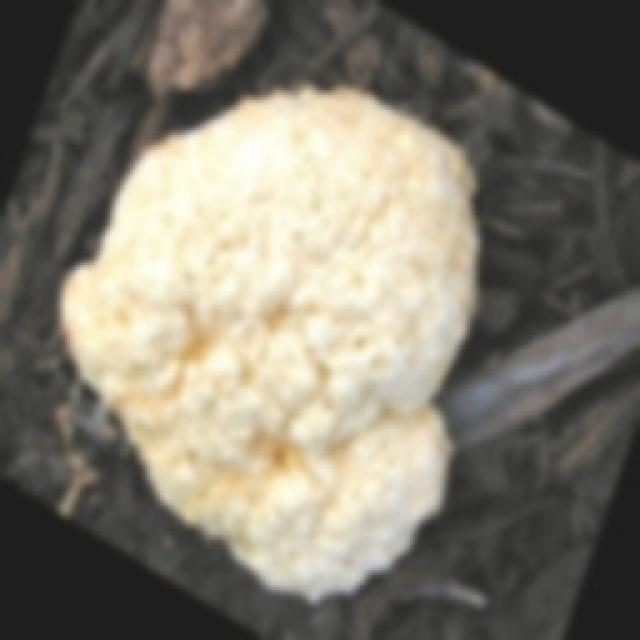Dog_vomit_slime_mold: (42, 68, 515, 614)
